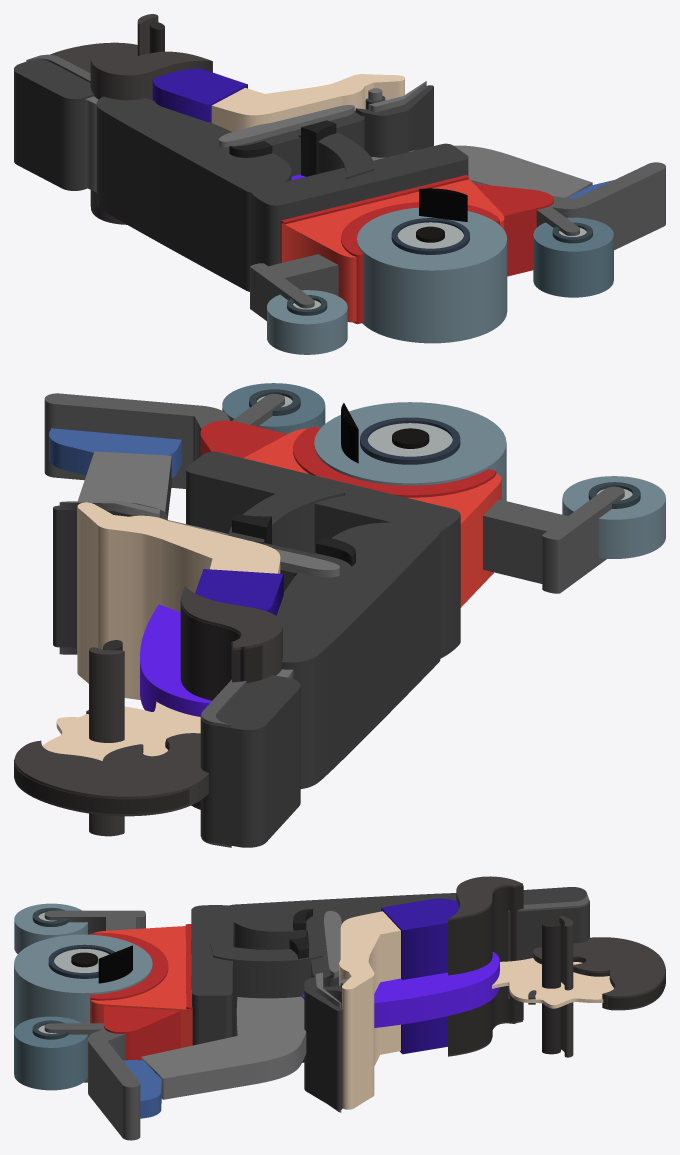
File: emoji_u1f469_1f3fb_200d_1f9bc_200d_27a1.glb
3 renders of one model, top to bottom at view 1: azimuth 30°, elevation 25°; view 2: azimuth 150°, elevation 25°; view 3: azimuth 270°, elevation 25°, orthographic. The views are drawn at different scales.
Parts seen in each view (by area): view 1: emoji_u1f469_1f3fb_200d_1f9bc_200d_27a1; view 2: emoji_u1f469_1f3fb_200d_1f9bc_200d_27a1; view 3: emoji_u1f469_1f3fb_200d_1f9bc_200d_27a1.
Boxes of the visible parts, x1,y1,x2,y2 form: emoji_u1f469_1f3fb_200d_1f9bc_200d_27a1: (14, 14, 665, 354); emoji_u1f469_1f3fb_200d_1f9bc_200d_27a1: (14, 383, 665, 847); emoji_u1f469_1f3fb_200d_1f9bc_200d_27a1: (14, 876, 665, 1140).
Bounding box in the file's own units: 0.0238 × 0.0078 × 0.0334.
